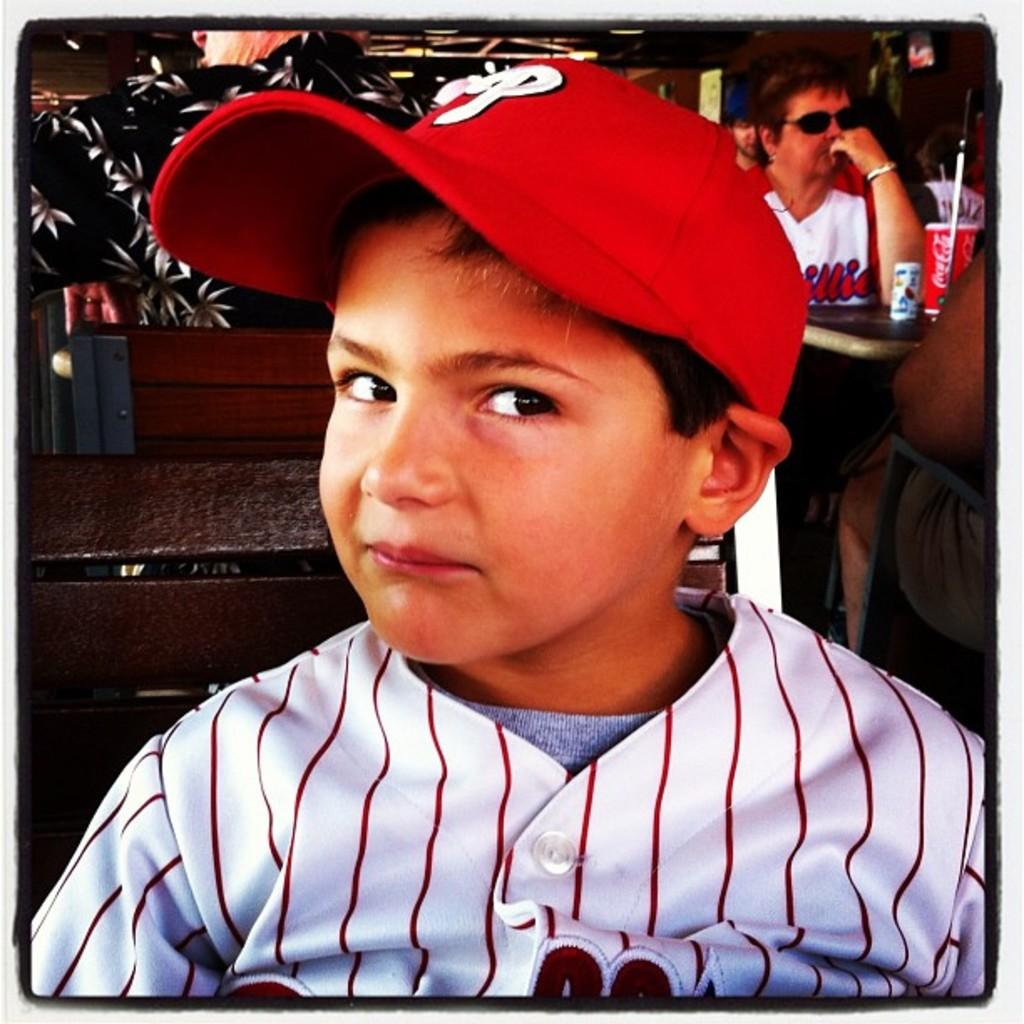Hat: (148, 50, 812, 426)
